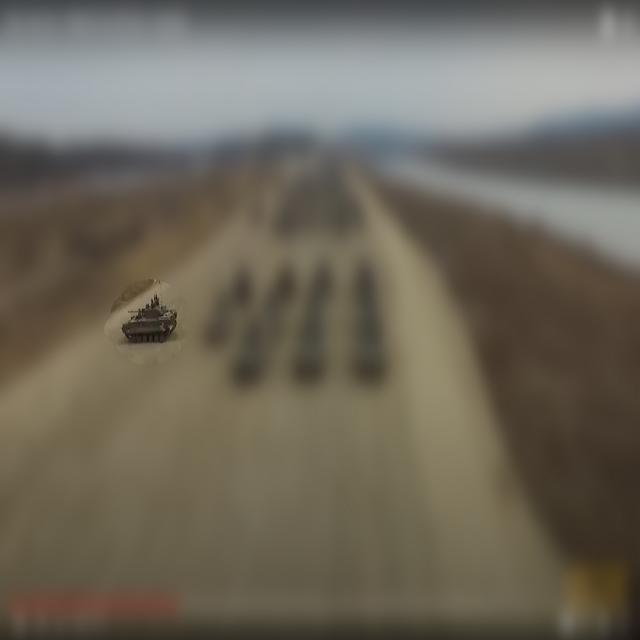tank: (119, 299, 179, 343)
